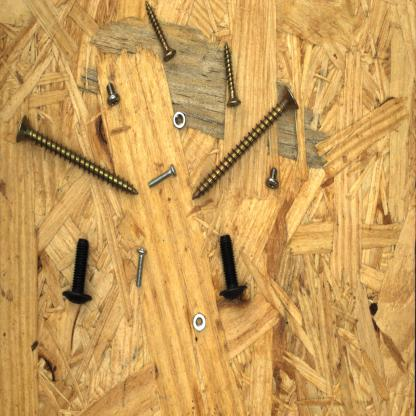screw: (190, 80, 302, 204), (13, 112, 141, 198), (59, 234, 95, 308), (215, 231, 249, 304), (143, 0, 179, 65), (221, 38, 243, 110), (146, 160, 178, 190), (133, 243, 150, 289), (103, 80, 124, 108), (264, 162, 280, 192)
